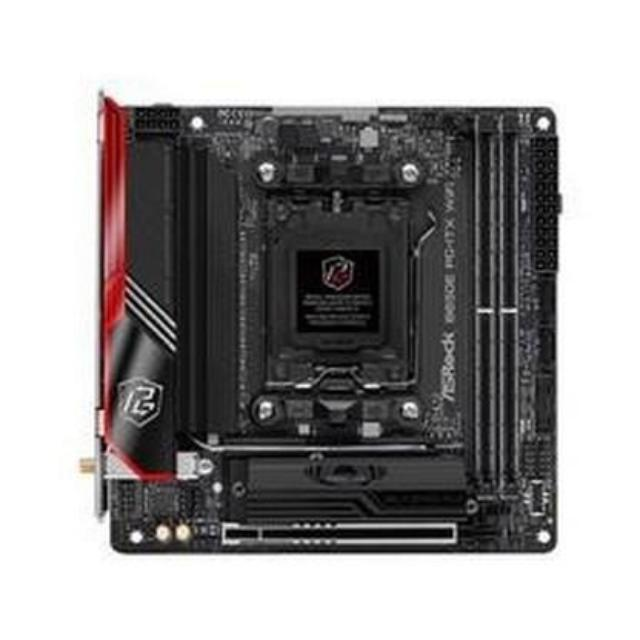Mainboard: (87, 96, 555, 556)
